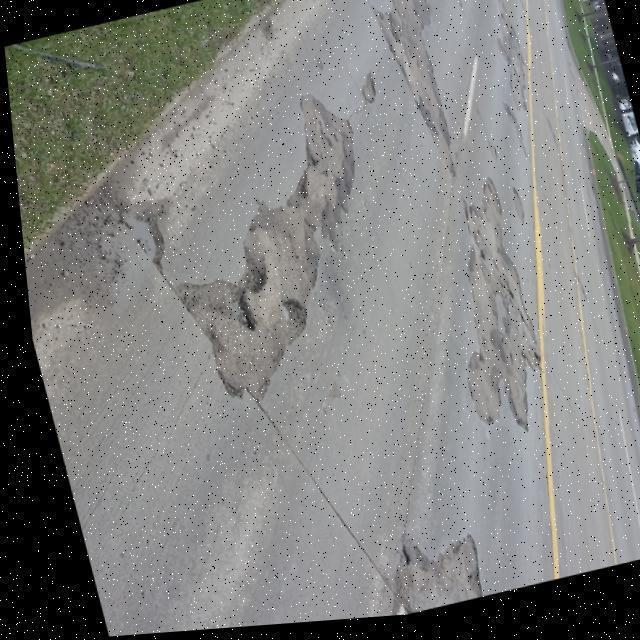Pothole: (174, 242, 272, 351), (121, 196, 168, 264)
